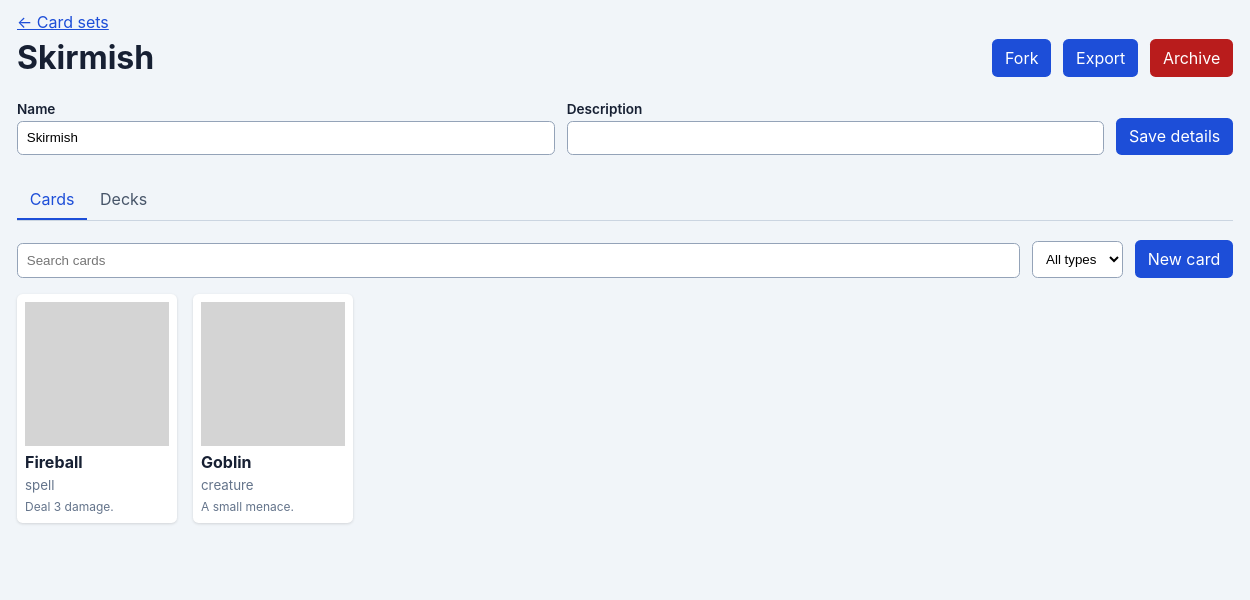
Test case: SetScreen › keeps the draft and explains a stale save
Replace the text in the field labelled "Name" with "Renamed" at (286, 138), box left=17, top=121, right=555, bottom=155
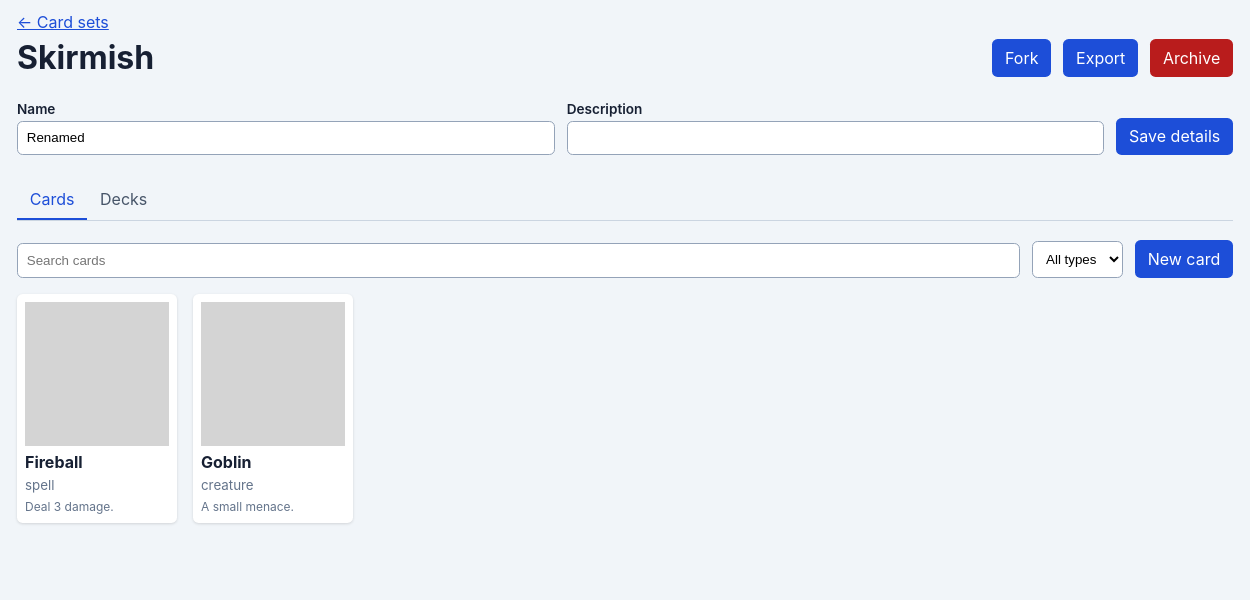
Click the button "Save details" at (1175, 136), box left=1116, top=118, right=1233, bottom=155
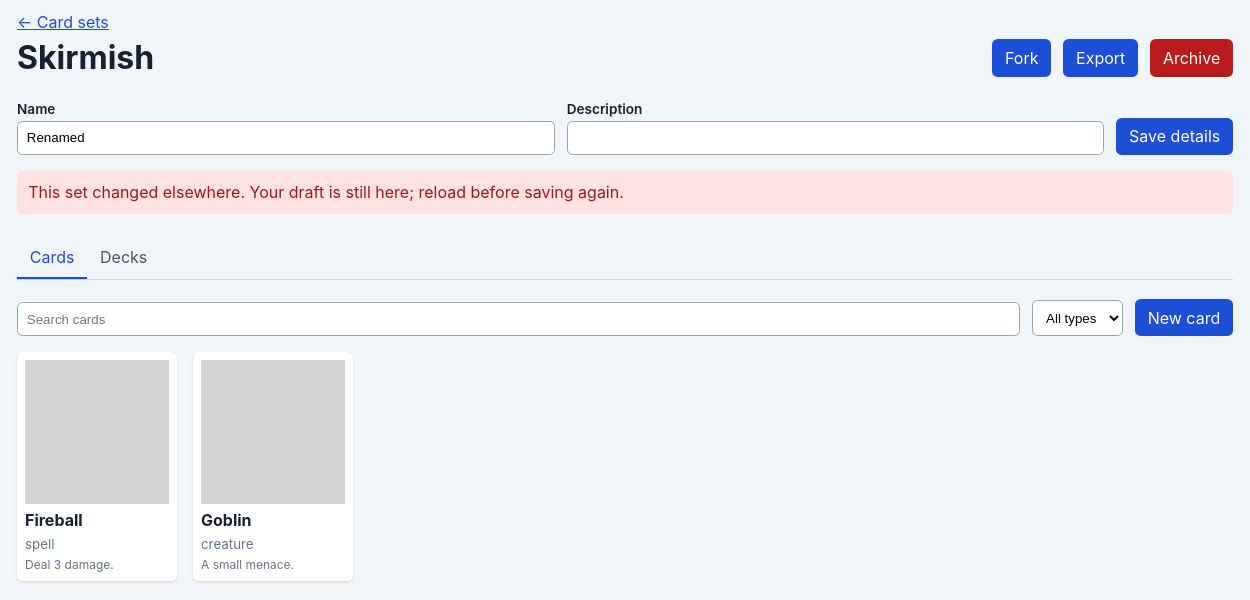
Check: the message shows "This set changed elsewhere.", box left=28, top=182, right=624, bottom=202
